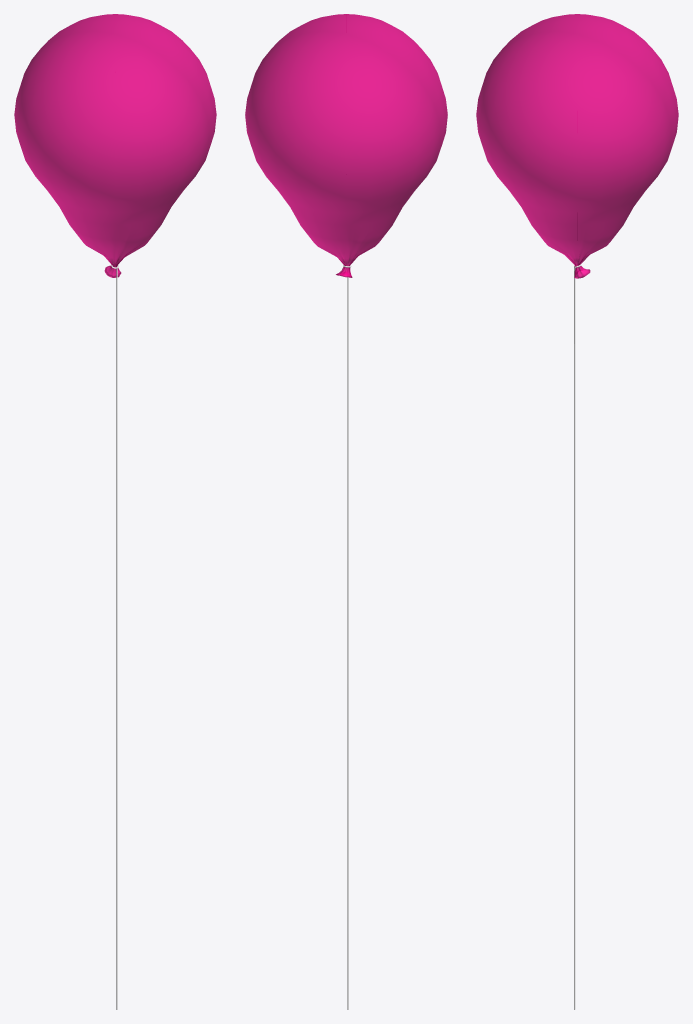
File: balloon.fbx
The picture shows the model from 3 angles, left to right: view 1: azimuth 30°, elevation 25°; view 2: azimuth 150°, elevation 25°; view 3: azimuth 270°, elevation 25°; orthographic projection.
Visible parts, largest first — view 1: balloon main, baloon string; view 2: balloon main, baloon string; view 3: balloon main, baloon string.
Part boxes in pixels (left/top/right/bottom): balloon main: left=14, top=14, right=216, bottom=277; baloon string: left=111, top=263, right=119, bottom=1009; balloon main: left=245, top=14, right=447, bottom=277; baloon string: left=343, top=265, right=351, bottom=1009; balloon main: left=476, top=14, right=678, bottom=278; baloon string: left=574, top=264, right=581, bottom=1009.
Bounding box in the file's own units: 28.24 × 152 × 28.24.
